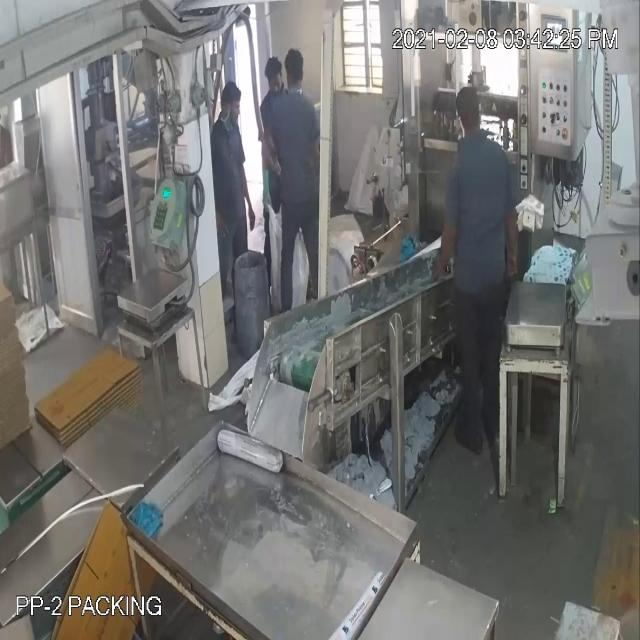gloves: (258, 150, 277, 225)
no-gloves: (498, 187, 524, 289), (436, 198, 462, 286)
